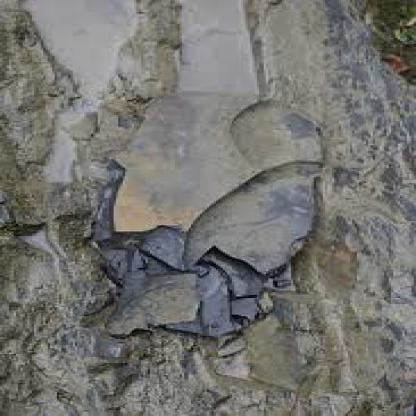Metamorphic_Quartize: (98, 94, 316, 330)
